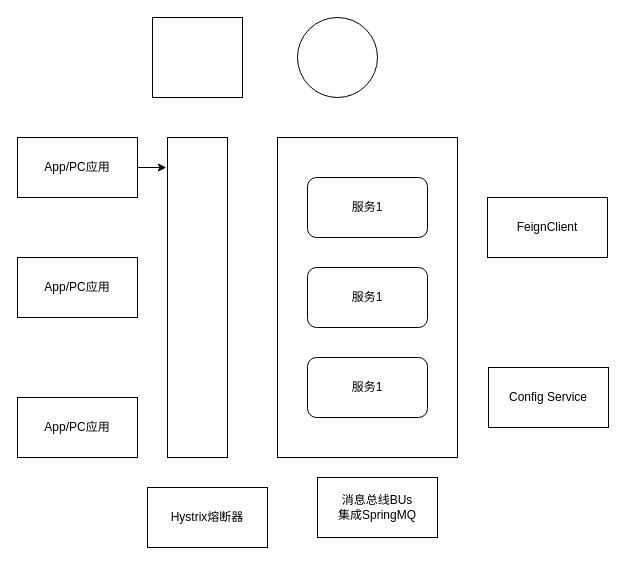
Some shapes in this 626 by 565 pixel diagram are drawn without their labels. Each missing label, with the centre of its shape:
Eureka Server 服务注册: the point at 337,57
GateWay: the point at 197,297
Ribbon 负载均衡: the point at 197,57
